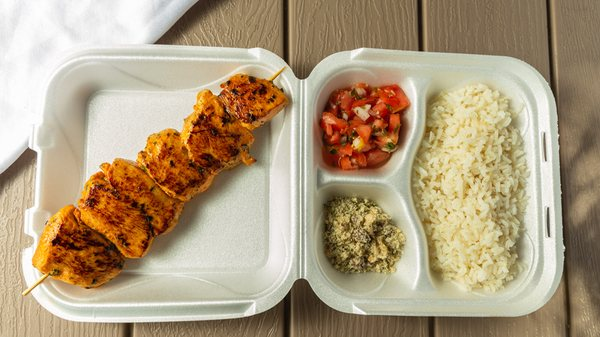curry: (1, 1, 591, 336)
